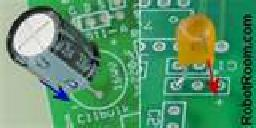Electrolytic-Capacitor: (5, 6, 111, 109), (175, 13, 219, 89)
